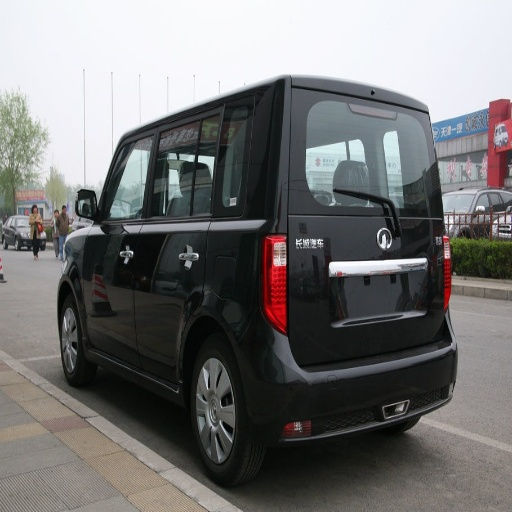back_bumper: (244, 307, 458, 443)
back_glass: (308, 99, 395, 205)
back_left_door: (137, 119, 219, 375)
back_left_light: (262, 236, 288, 334)
back_right_door: (237, 80, 287, 145)
tailgate: (378, 274, 427, 318)
trunk: (289, 213, 436, 364), (205, 224, 257, 330)
